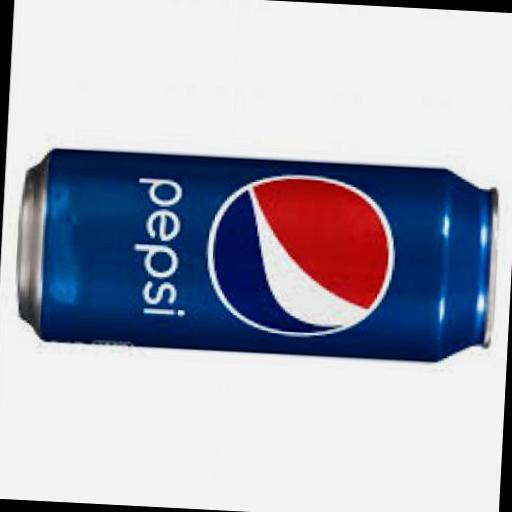metal: (16, 144, 505, 362)
